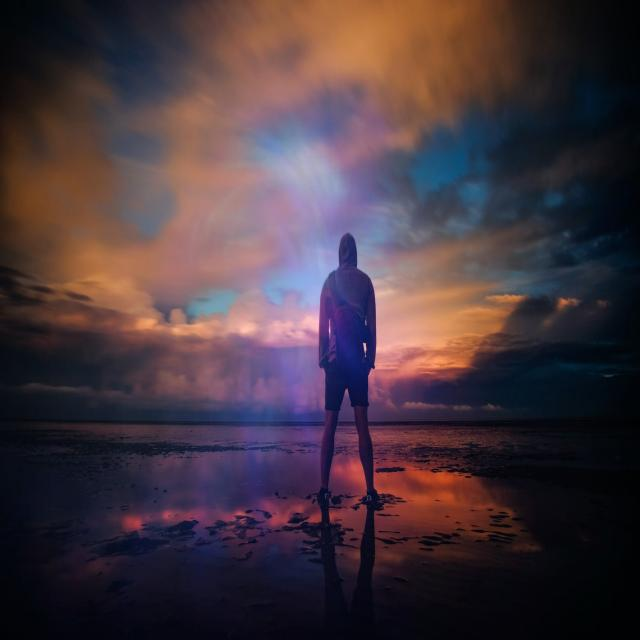adult: (318, 232, 378, 506)
